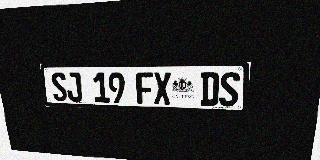1: (92, 72, 110, 103)
9: (108, 72, 126, 103)
D: (200, 72, 220, 106)
F: (136, 72, 154, 104)
J: (65, 72, 83, 102)
S: (219, 72, 240, 106), (50, 72, 68, 101)
X: (153, 72, 171, 104)
